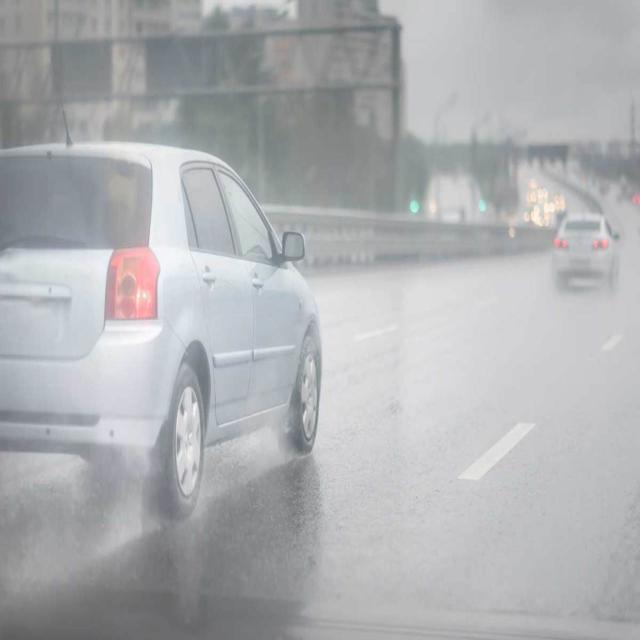car: (0, 139, 328, 509), (552, 215, 618, 291)
